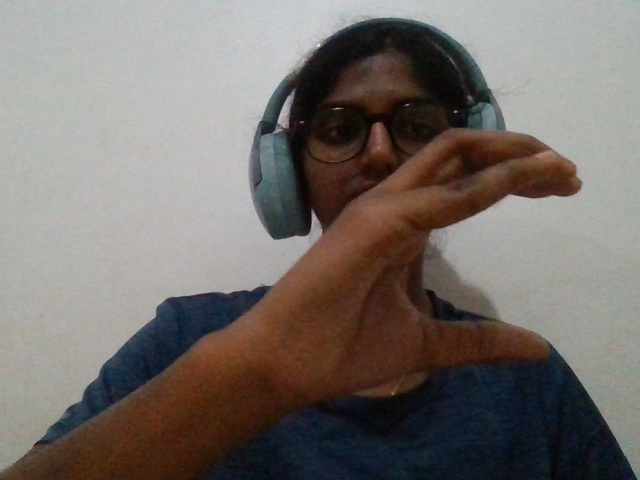C: (213, 103, 609, 461)
